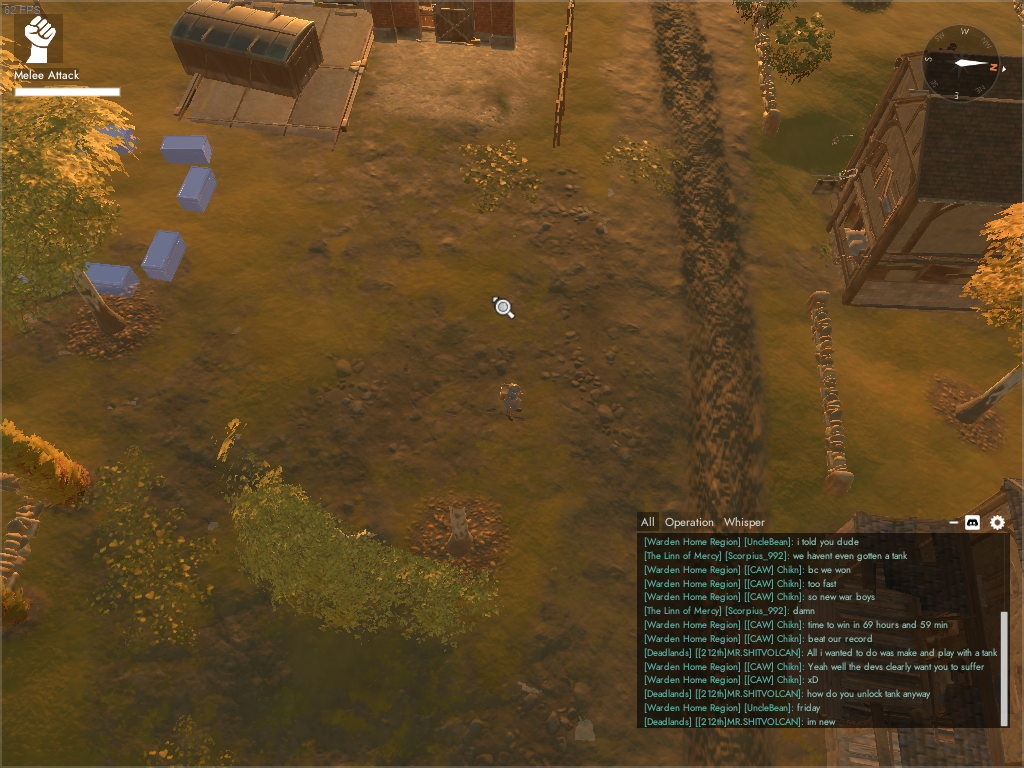container: (166, 1, 329, 101)
player: (493, 376, 531, 425)
storage_box: (75, 257, 144, 303), (140, 226, 189, 287), (73, 117, 140, 159), (175, 161, 219, 216), (157, 129, 216, 170)
